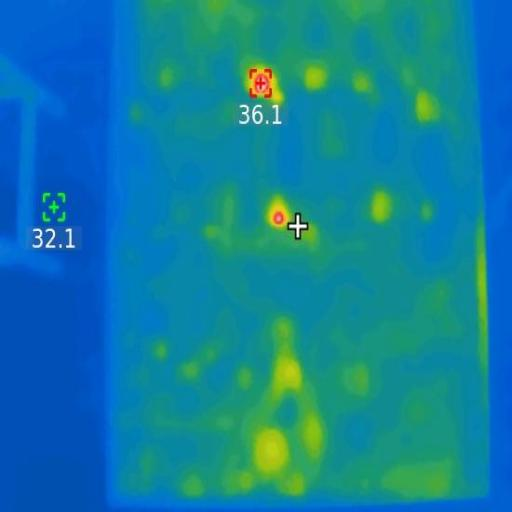hotspot: (248, 69, 274, 100), (269, 210, 289, 228)
